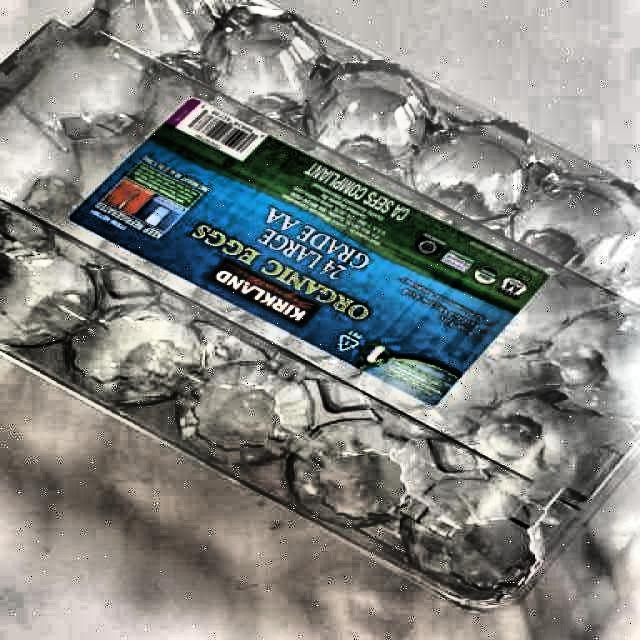plastic: (0, 0, 639, 604)
